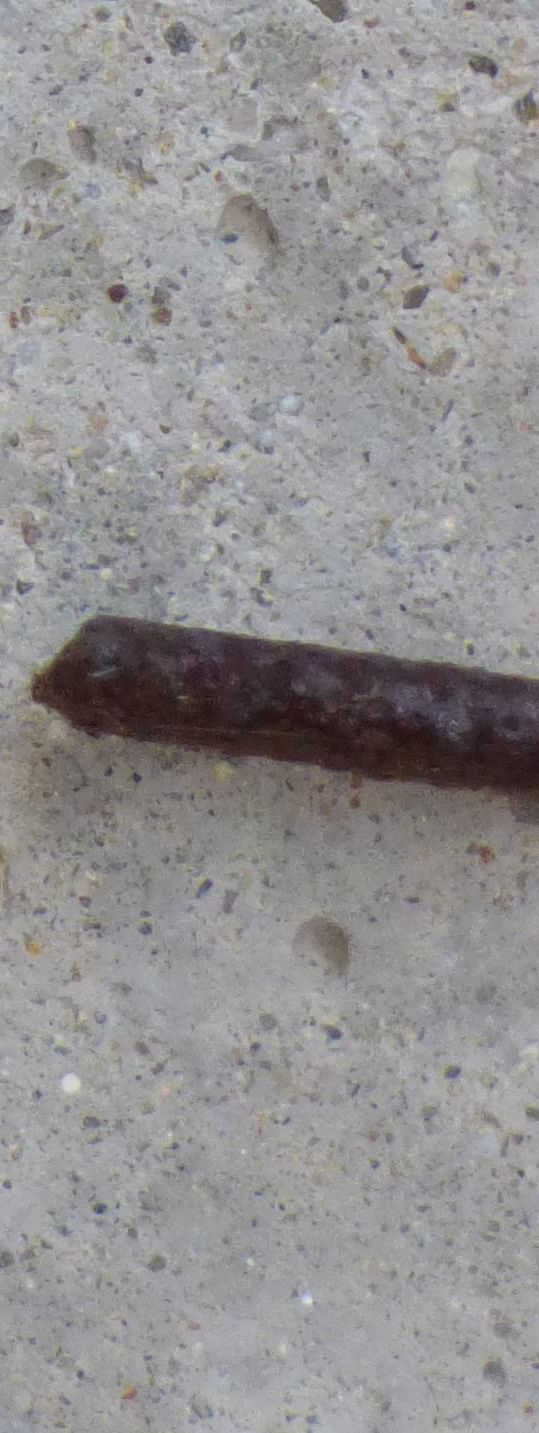Exposed reinforcement: (31, 614, 539, 791)
